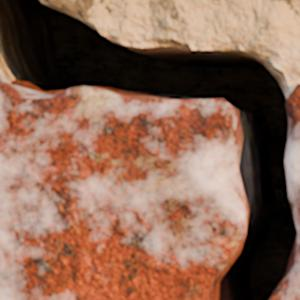broken_brick: (0, 82, 242, 299), (287, 83, 299, 231), (273, 236, 299, 299)
crack: (0, 0, 299, 299)
